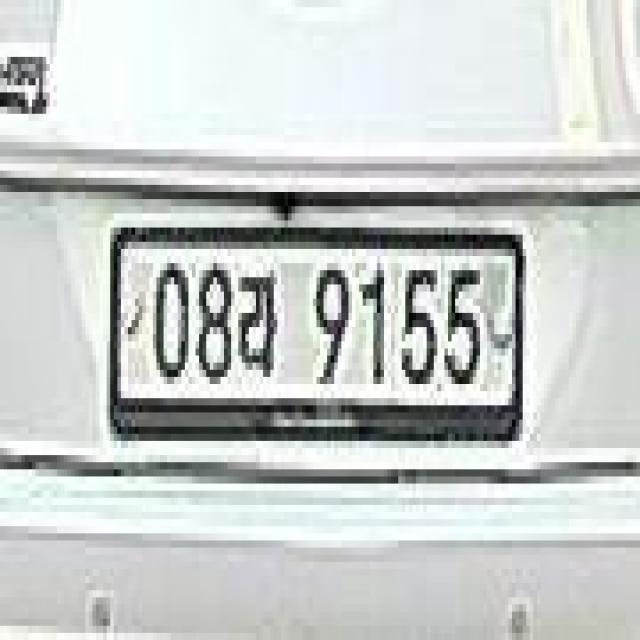illegal_plate: (104, 209, 531, 459)
